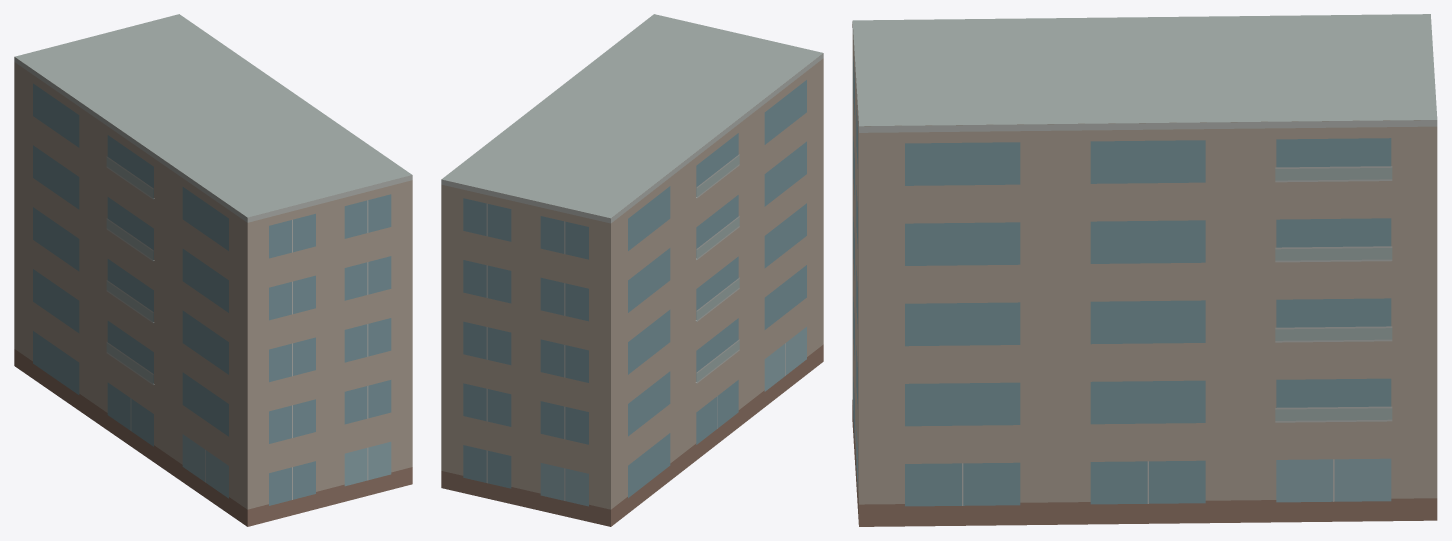
The model's file is survey-upis-32532727.glb.
The picture shows the model from 3 angles, left to right: view 1: azimuth 30°, elevation 25°; view 2: azimuth 150°, elevation 25°; view 3: azimuth 270°, elevation 25°; orthographic projection. The views are drawn at different scales.
Visible parts, largest first — view 1: survey-upis-32532727.tmp; view 2: survey-upis-32532727.tmp; view 3: survey-upis-32532727.tmp.
Part boxes in pixels (bbox=[...]): survey-upis-32532727.tmp: bbox=[14, 14, 412, 526]; survey-upis-32532727.tmp: bbox=[441, 14, 823, 526]; survey-upis-32532727.tmp: bbox=[852, 14, 1437, 526].
Bounding box in the file's own units: 8.71 × 14.5 × 19.19.
